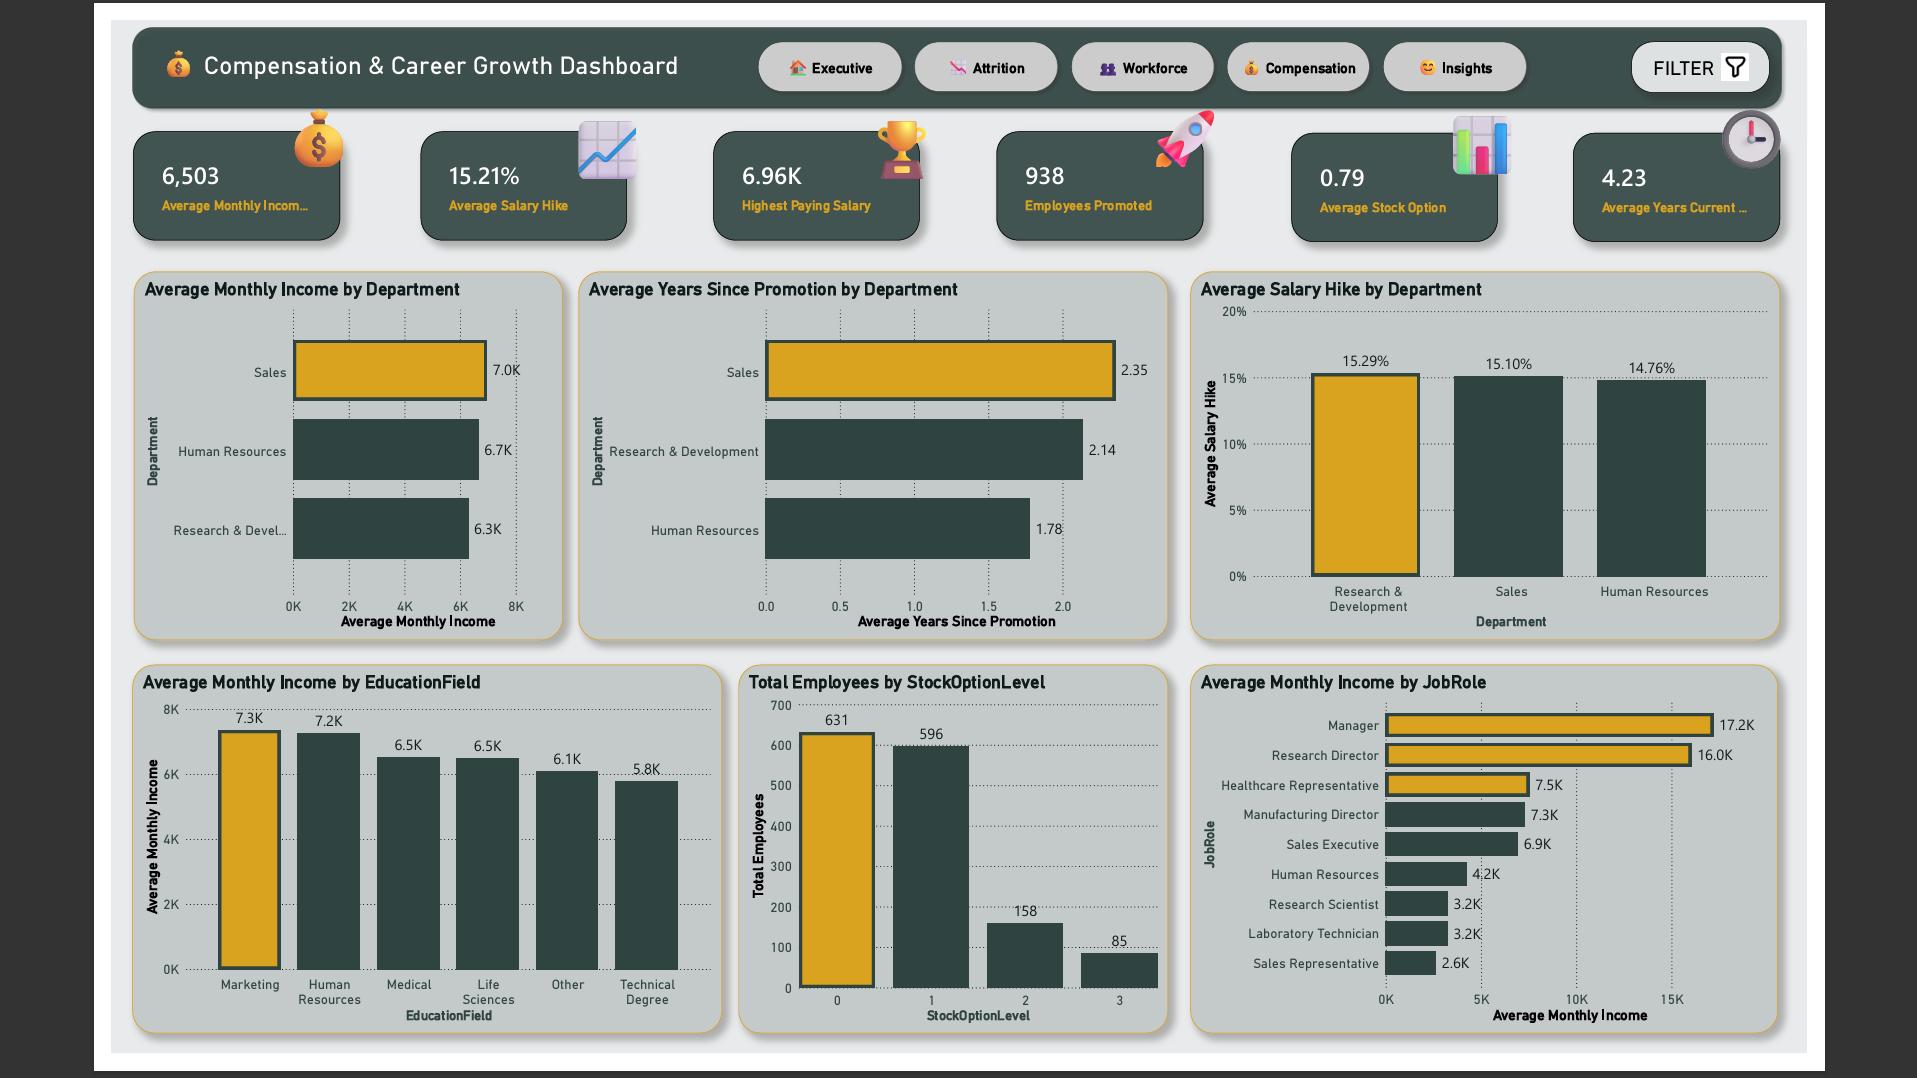

Layout of this report page (visuals, bound fields, positions):
{"tool":"powerbi","page":{"name":"Compensation & Career Growth","canvas":[2300,1400],"ordinal":3},"visuals":[{"type":"group","id":"g1","title":"Group 1","box":[19.4,0,2254.9,128.2],"z":0},{"type":"shape","box":[19.4,0,2254.9,128.2],"z":0,"group":"g1"},{"type":"actionButton","box":[2061.2,27.6,187.7,70.1],"z":0,"group":"g2"},{"type":"actionButton","box":[867.5,20,213,85],"z":1000,"group":"g3"},{"type":"image","box":[2157.4,43.5,90.9,36.9],"z":1000,"group":"g2"},{"type":"clusteredBarChart","fields":{"Category":["HR-Employee.Department"],"Y":["HR-Employee.Average Monthly Income"]},"box":[30,340,582,500],"z":1000},{"type":"actionButton","box":[1080,20,211.9,85],"z":2000,"group":"g3"},{"type":"group","id":"g2","title":"Open","box":[2061.2,27.6,187.1,75],"z":2000,"group":"g1"},{"type":"clusteredColumnChart","fields":{"Category":["HR-Employee.Department"],"Y":["HR-Employee.Average Salary Hike"]},"box":[1462.5,340,800,500],"z":2000},{"type":"actionButton","box":[1292.2,20,211.2,85],"z":3000,"group":"g3"},{"type":"clusteredBarChart","fields":{"Category":["HR-Employee.Department"],"Y":["HR-Employee.Average Years Since Promotion"]},"box":[632.5,340,800,500],"z":3000},{"type":"actionButton","box":[1503.4,20,211.2,85],"z":4000,"group":"g3"},{"type":"textbox","box":[60.2,27,866.3,68.7],"z":4000,"group":"g1"},{"type":"clusteredColumnChart","fields":{"Category":["HR-Employee.EducationField"],"Y":["HR-Employee.Average Monthly Income"]},"box":[27.5,872.5,800,500],"z":4000},{"type":"actionButton","box":[1715.6,20,211.9,85],"z":5000,"group":"g3"},{"type":"clusteredBarChart","fields":{"Category":["HR-Employee.JobRole"],"Y":["HR-Employee.Average Monthly Income"]},"box":[1463.3,873.3,796.7,500],"z":5000},{"type":"clusteredColumnChart","fields":{"Category":["HR-Employee.StockOptionLevel"],"Y":["HR-Employee.Total Employees"]},"box":[850,873.3,583.3,500],"z":6000},{"type":"group","id":"g3","title":"Group 1","box":[867.5,20,1060,85],"z":8000},{"type":"group","id":"g4","title":"Group 2","box":[29,81,2245.8,219.1],"z":9000},{"type":"cardVisual","fields":{"Data":["HR-Employee.Average Monthly Income (Display)"]},"box":[29,150.1,280.7,147.6],"z":15000,"group":"g4"},{"type":"cardVisual","fields":{"Data":["HR-Employee.Average Salary Hike"]},"box":[418.6,150.1,280.7,147.6],"z":16000,"group":"g4"},{"type":"cardVisual","fields":{"Data":["HR-Employee.Highest Paying Department"]},"box":[815.5,150.1,280.7,147.6],"z":17000,"group":"g4"},{"type":"cardVisual","fields":{"Data":["HR-Employee.Employees Promoted"]},"box":[1200.3,150.1,280.7,147.6],"z":18000,"group":"g4"},{"type":"cardVisual","fields":{"Data":["HR-Employee.Average Stock Option"]},"box":[1599.6,152.5,280.7,147.6],"z":19000,"group":"g4"},{"type":"cardVisual","fields":{"Data":["HR-Employee.Average Years Current Role"]},"box":[1982,152.5,280.7,147.6],"z":20000,"group":"g4"},{"type":"textbox","box":[220.8,95.7,257.7,130.1],"z":20500,"group":"g4"},{"type":"textbox","box":[613.5,95.7,255.2,162],"z":21000,"group":"g4"},{"type":"textbox","box":[1013.5,95.7,257.7,162],"z":21500,"group":"g4"},{"type":"textbox","box":[1396.3,81,257.7,162],"z":22000,"group":"g4"},{"type":"textbox","box":[1798.7,105.5,255.2,162],"z":22500,"group":"g4"},{"type":"textbox","box":[2164.4,81,110.4,162],"z":23000,"group":"g4"}]}

Visuals, with their boxes on the page's 2300x1400 design canvas (x1, y1, x2, y2). These are canvas units, not pixel positions in the 1917x1078 screenshot, which may show the page scaled, cropped or inside an application window:
"Group 1" group: {"left": 19, "top": 0, "right": 2274, "bottom": 128}
shape: {"left": 19, "top": 0, "right": 2274, "bottom": 128}
actionButton: {"left": 2061, "top": 28, "right": 2249, "bottom": 98}
actionButton: {"left": 868, "top": 20, "right": 1080, "bottom": 105}
image: {"left": 2157, "top": 44, "right": 2248, "bottom": 80}
clusteredBarChart - HR-Employee.Department x HR-Employee.Average Monthly Income: {"left": 30, "top": 340, "right": 612, "bottom": 840}
actionButton: {"left": 1080, "top": 20, "right": 1292, "bottom": 105}
"Open" group: {"left": 2061, "top": 28, "right": 2248, "bottom": 103}
clusteredColumnChart - HR-Employee.Department x HR-Employee.Average Salary Hike: {"left": 1462, "top": 340, "right": 2262, "bottom": 840}
actionButton: {"left": 1292, "top": 20, "right": 1503, "bottom": 105}
clusteredBarChart - HR-Employee.Department x HR-Employee.Average Years Since Promotion: {"left": 632, "top": 340, "right": 1432, "bottom": 840}
actionButton: {"left": 1503, "top": 20, "right": 1715, "bottom": 105}
textbox: {"left": 60, "top": 27, "right": 926, "bottom": 96}
clusteredColumnChart - HR-Employee.EducationField x HR-Employee.Average Monthly Income: {"left": 28, "top": 872, "right": 828, "bottom": 1372}
actionButton: {"left": 1716, "top": 20, "right": 1928, "bottom": 105}
clusteredBarChart - HR-Employee.JobRole x HR-Employee.Average Monthly Income: {"left": 1463, "top": 873, "right": 2260, "bottom": 1373}
clusteredColumnChart - HR-Employee.StockOptionLevel x HR-Employee.Total Employees: {"left": 850, "top": 873, "right": 1433, "bottom": 1373}
"Group 1" group: {"left": 868, "top": 20, "right": 1928, "bottom": 105}
"Group 2" group: {"left": 29, "top": 81, "right": 2275, "bottom": 300}
cardVisual - HR-Employee.Average Monthly Income (Display): {"left": 29, "top": 150, "right": 310, "bottom": 298}
cardVisual - HR-Employee.Average Salary Hike: {"left": 419, "top": 150, "right": 699, "bottom": 298}
cardVisual - HR-Employee.Highest Paying Department: {"left": 816, "top": 150, "right": 1096, "bottom": 298}
cardVisual - HR-Employee.Employees Promoted: {"left": 1200, "top": 150, "right": 1481, "bottom": 298}
cardVisual - HR-Employee.Average Stock Option: {"left": 1600, "top": 152, "right": 1880, "bottom": 300}
cardVisual - HR-Employee.Average Years Current Role: {"left": 1982, "top": 152, "right": 2263, "bottom": 300}
textbox: {"left": 221, "top": 96, "right": 478, "bottom": 226}
textbox: {"left": 614, "top": 96, "right": 869, "bottom": 258}
textbox: {"left": 1014, "top": 96, "right": 1271, "bottom": 258}
textbox: {"left": 1396, "top": 81, "right": 1654, "bottom": 243}
textbox: {"left": 1799, "top": 106, "right": 2054, "bottom": 268}
textbox: {"left": 2164, "top": 81, "right": 2275, "bottom": 243}
